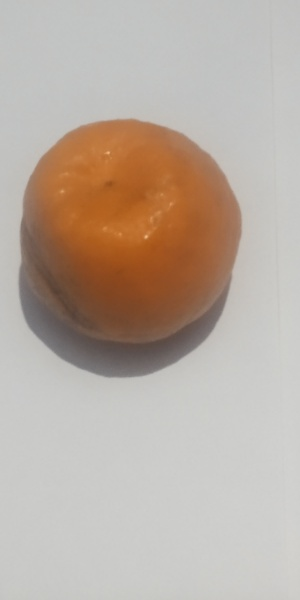BAD: (14, 116, 248, 349)
